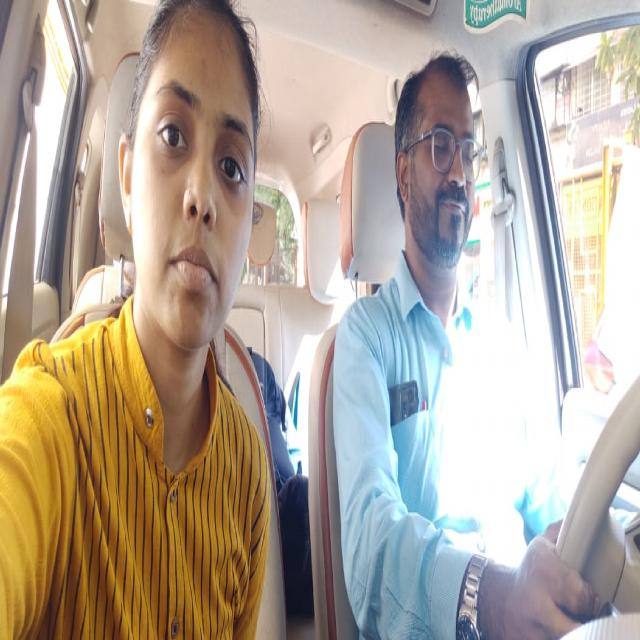person: (111, 0, 267, 370), (393, 49, 489, 280)
